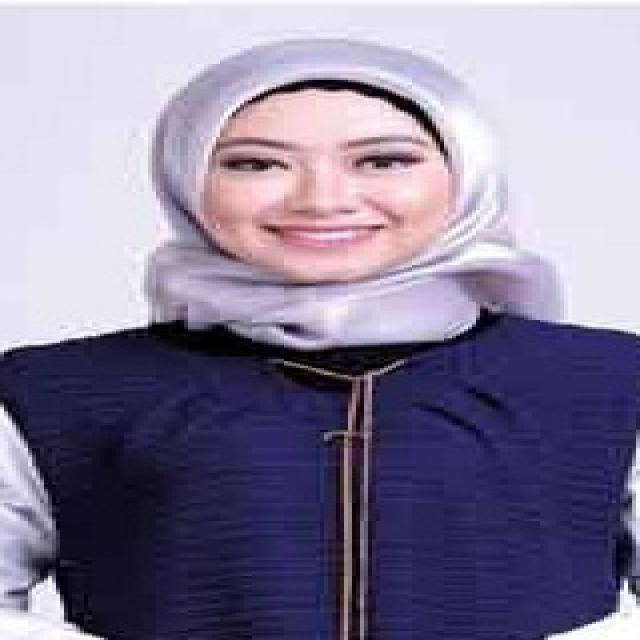head: (143, 35, 518, 294)
